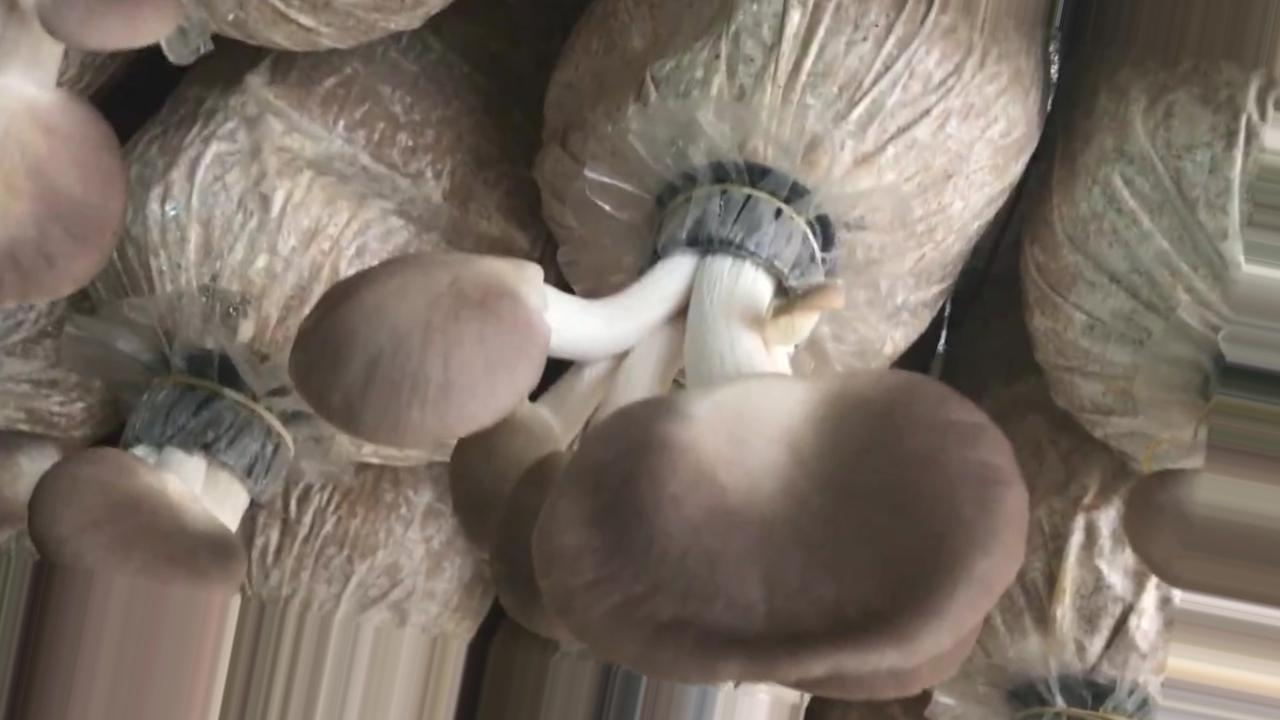nam: (289, 172, 1033, 718), (1, 356, 302, 720), (1, 1, 155, 309), (1125, 348, 1280, 596)
